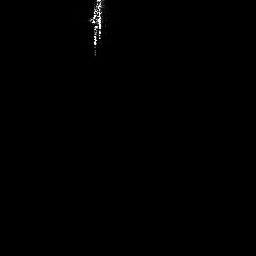ship: (89, 1, 102, 58)
